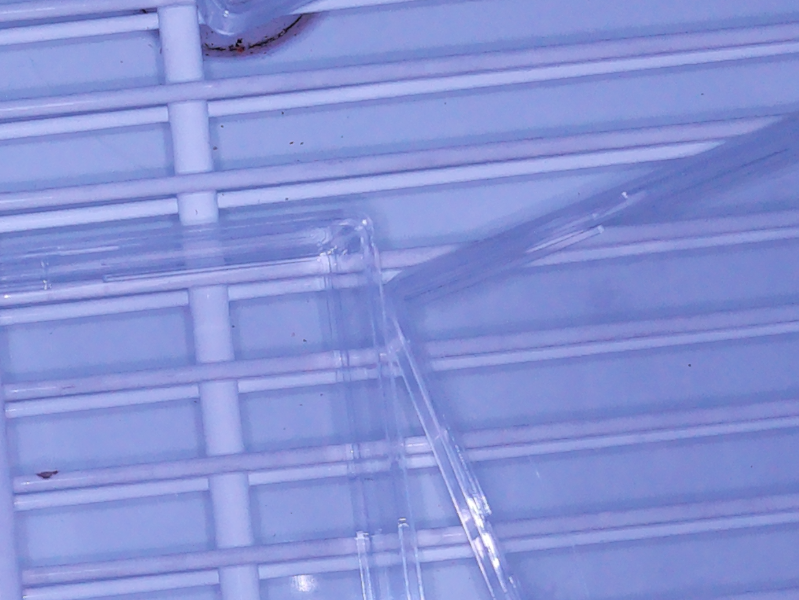plate: (386, 116, 799, 600), (1, 203, 426, 600)
